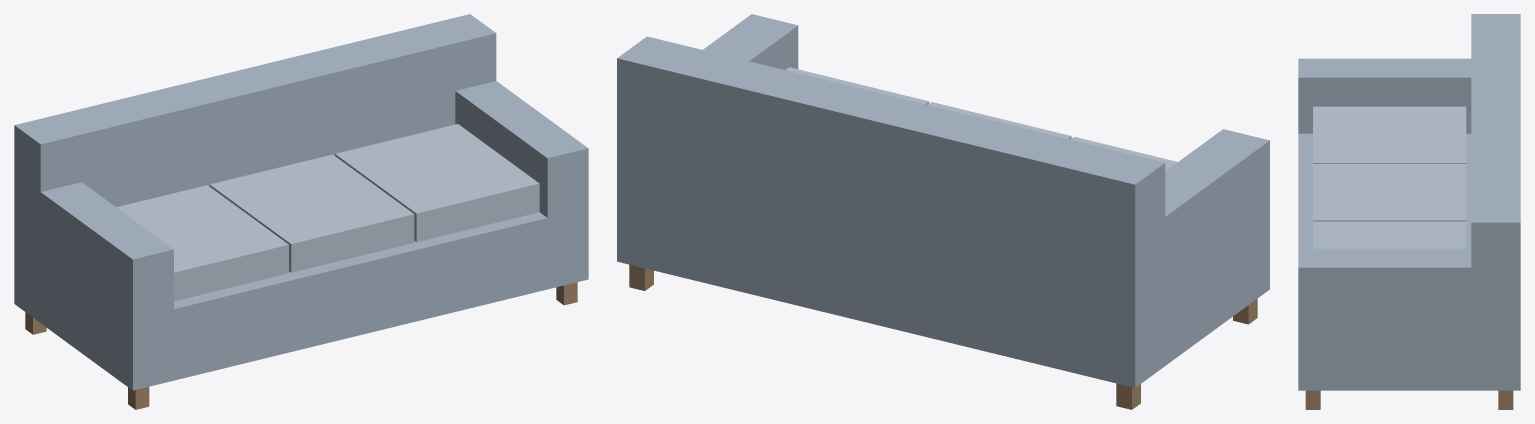
Rendered from sofa.glb.
3 views of the same model, side by side, from view 1: azimuth 30°, elevation 25°; view 2: azimuth 150°, elevation 25°; view 3: azimuth 270°, elevation 25° (orthographic). The views are drawn at different scales.
Visible parts, largest first — view 1: Back, Base, Seat (×3), Arm (×2); view 2: Back, Base, Arm (×2), Seat (×2); view 3: Arm (×2), Seat (×3), Base, Back, Leg (×2).
Part boxes in pixels (<box>): Back: <box>14,14,496,251</box>; Base: <box>14,208,588,390</box>; Seat (×3): <box>116,124,539,301</box>; Arm (×2): <box>14,81,588,318</box>; Back: <box>617,36,1165,306</box>; Base: <box>617,180,1269,387</box>; Arm (×2): <box>651,14,1269,306</box>; Seat (×2): <box>785,67,1071,139</box>; Arm (×2): <box>1298,58,1520,323</box>; Seat (×3): <box>1313,106,1466,248</box>; Base: <box>1298,133,1520,390</box>; Back: <box>1471,14,1520,323</box>; Leg (×2): <box>1305,390,1513,409</box>.
Size of the model in its own units: 2 by 0.85 by 0.9.
